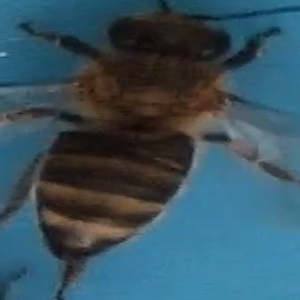bee: (22, 4, 298, 294)
